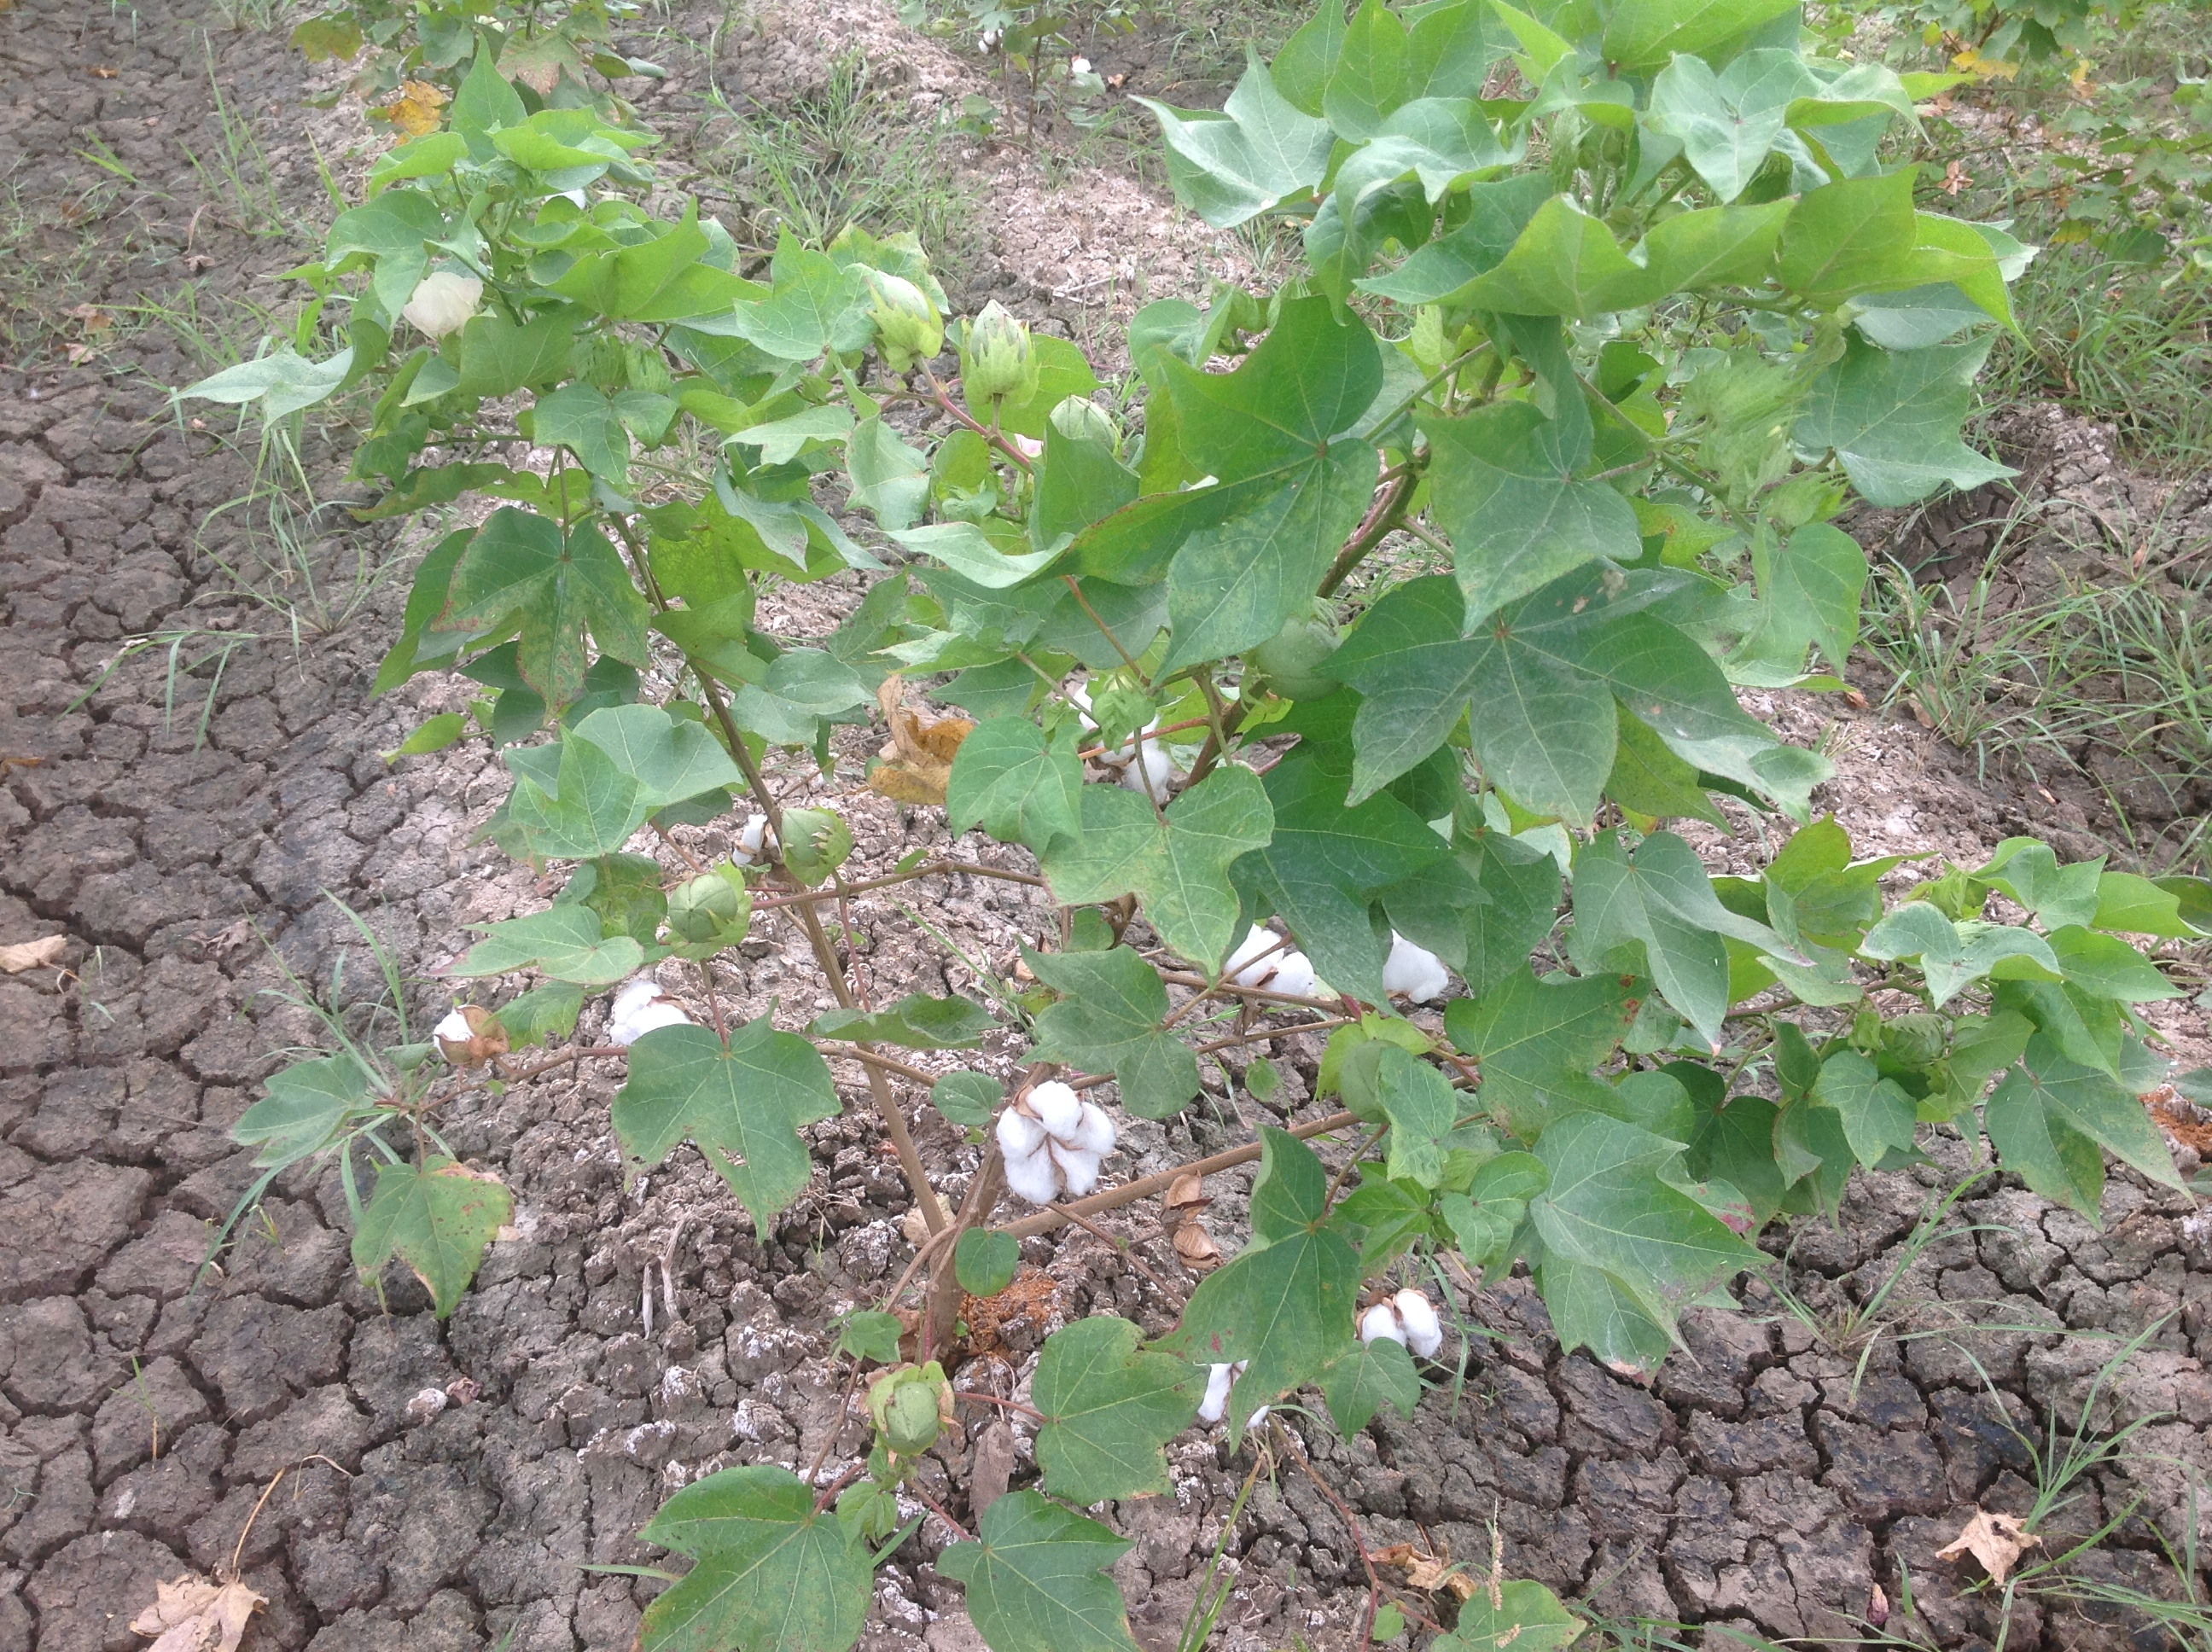cotton: (1315, 899, 1459, 1034), (989, 1076, 1126, 1213), (1057, 678, 1192, 809), (1173, 1338, 1294, 1435), (1199, 911, 1299, 1019), (597, 980, 696, 1076), (1348, 1293, 1445, 1388), (430, 1001, 514, 1085)
